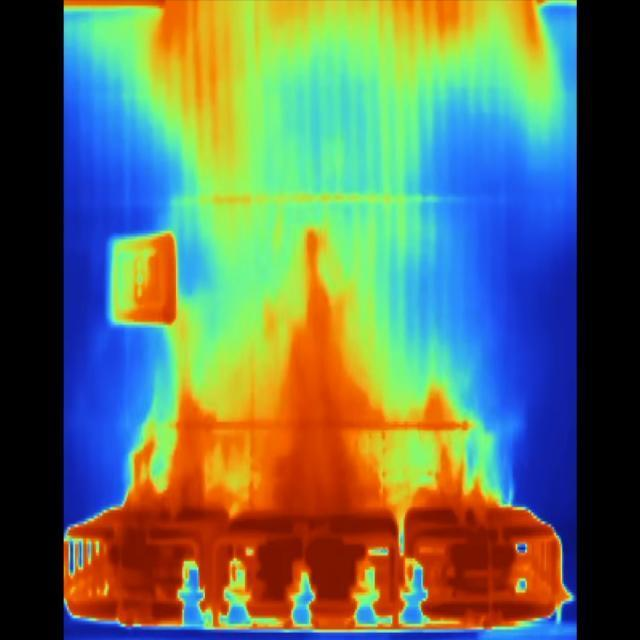fire: (108, 498, 556, 637)
